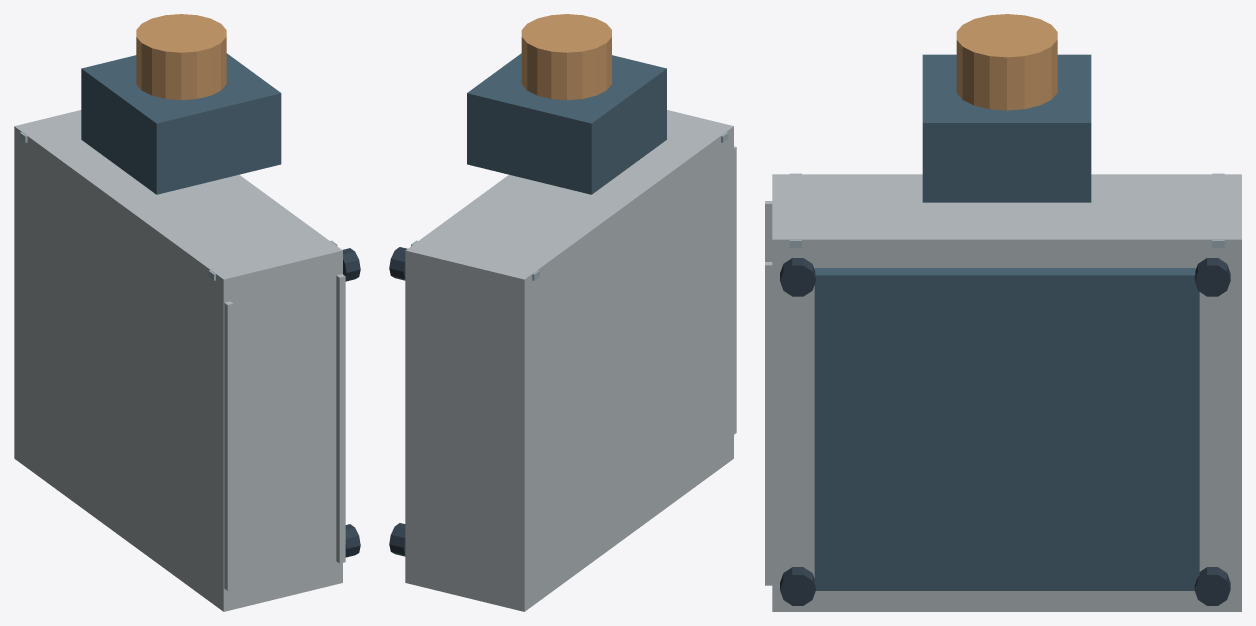
File: 11_L72_LoadLockGateValve.glb
3 views of the same model, side by side, from view 1: azimuth 30°, elevation 25°; view 2: azimuth 150°, elevation 25°; view 3: azimuth 270°, elevation 25° (orthographic). The views are drawn at different scales.
Parts seen in each view (by area): view 1: LoadLockGateValve_Part_000, LoadLockGateValve_Part_008, LoadLockGateValve_Part_009, LoadLockGateValve_Part_005, LoadLockGateValve_Part_006, LoadLockGateValve_Part_013; view 2: LoadLockGateValve_Part_000, LoadLockGateValve_Part_008, LoadLockGateValve_Part_009, LoadLockGateValve_Part_005, LoadLockGateValve_Part_012, LoadLockGateValve_Part_010; view 3: LoadLockGateValve_Part_007, LoadLockGateValve_Part_000, LoadLockGateValve_Part_008, LoadLockGateValve_Part_009, LoadLockGateValve_Part_006, LoadLockGateValve_Part_012, LoadLockGateValve_Part_013, LoadLockGateValve_Part_011, LoadLockGateValve_Part_010.
Part boxes in pixels (x1,y1,x2,y2): LoadLockGateValve_Part_000: [14, 110, 342, 611]; LoadLockGateValve_Part_008: [81, 53, 281, 194]; LoadLockGateValve_Part_009: [136, 14, 226, 100]; LoadLockGateValve_Part_005: [224, 301, 233, 590]; LoadLockGateValve_Part_006: [336, 274, 345, 563]; LoadLockGateValve_Part_013: [342, 248, 360, 281]; LoadLockGateValve_Part_000: [405, 110, 733, 611]; LoadLockGateValve_Part_008: [467, 53, 666, 194]; LoadLockGateValve_Part_009: [521, 14, 611, 100]; LoadLockGateValve_Part_005: [734, 146, 736, 434]; LoadLockGateValve_Part_012: [389, 247, 407, 280]; LoadLockGateValve_Part_010: [389, 523, 405, 556]; LoadLockGateValve_Part_007: [814, 268, 1199, 590]; LoadLockGateValve_Part_000: [772, 174, 1241, 611]; LoadLockGateValve_Part_008: [922, 54, 1091, 202]; LoadLockGateValve_Part_009: [956, 14, 1057, 110]; LoadLockGateValve_Part_006: [765, 262, 772, 585]; LoadLockGateValve_Part_012: [1194, 258, 1230, 296]; LoadLockGateValve_Part_013: [780, 258, 815, 296]; LoadLockGateValve_Part_011: [780, 567, 815, 605]; LoadLockGateValve_Part_010: [1194, 567, 1230, 605].
Size of the model in its own units: 0.5026 by 1.64 by 1.3.
